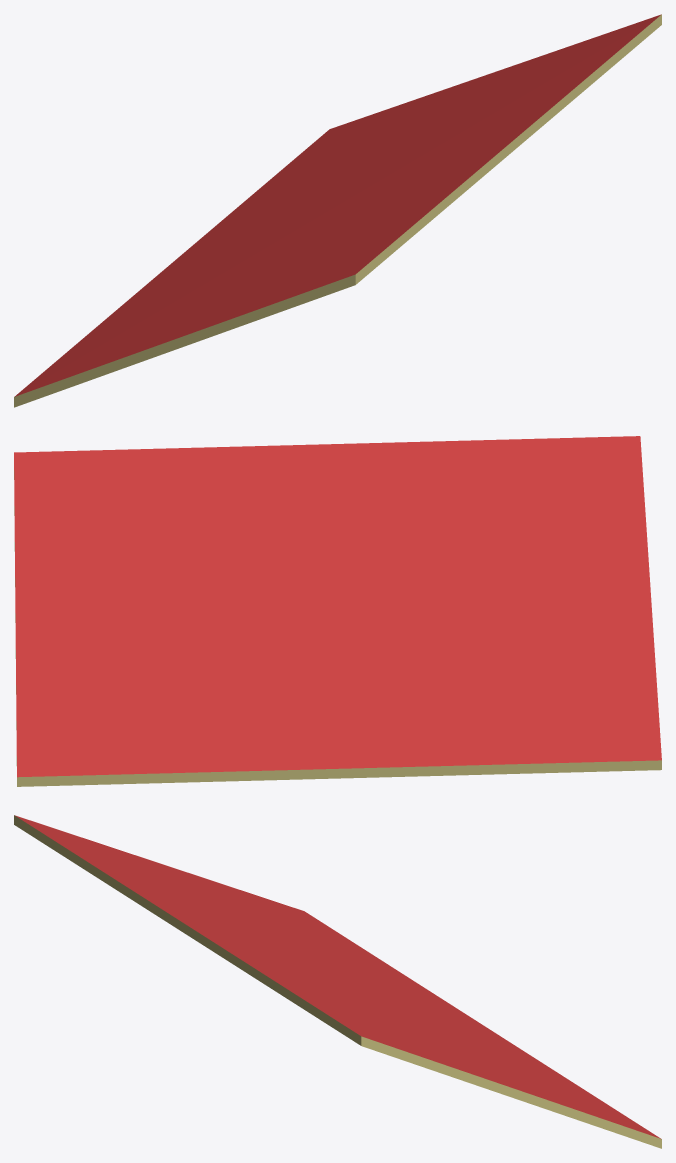
3 views of the same model, one above another, from view 1: azimuth 30°, elevation 25°; view 2: azimuth 150°, elevation 25°; view 3: azimuth 270°, elevation 25° (orthographic). The views are drawn at different scales.
Bounding box in the file's own units: 6.67 × 6.03 × 1.92.
